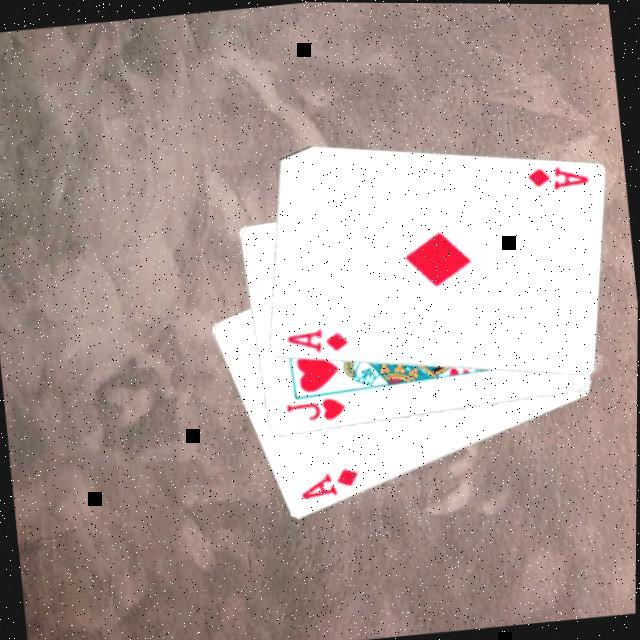AD: (296, 464, 364, 506), (525, 160, 594, 198), (284, 323, 354, 360)
JH: (284, 394, 351, 429)
